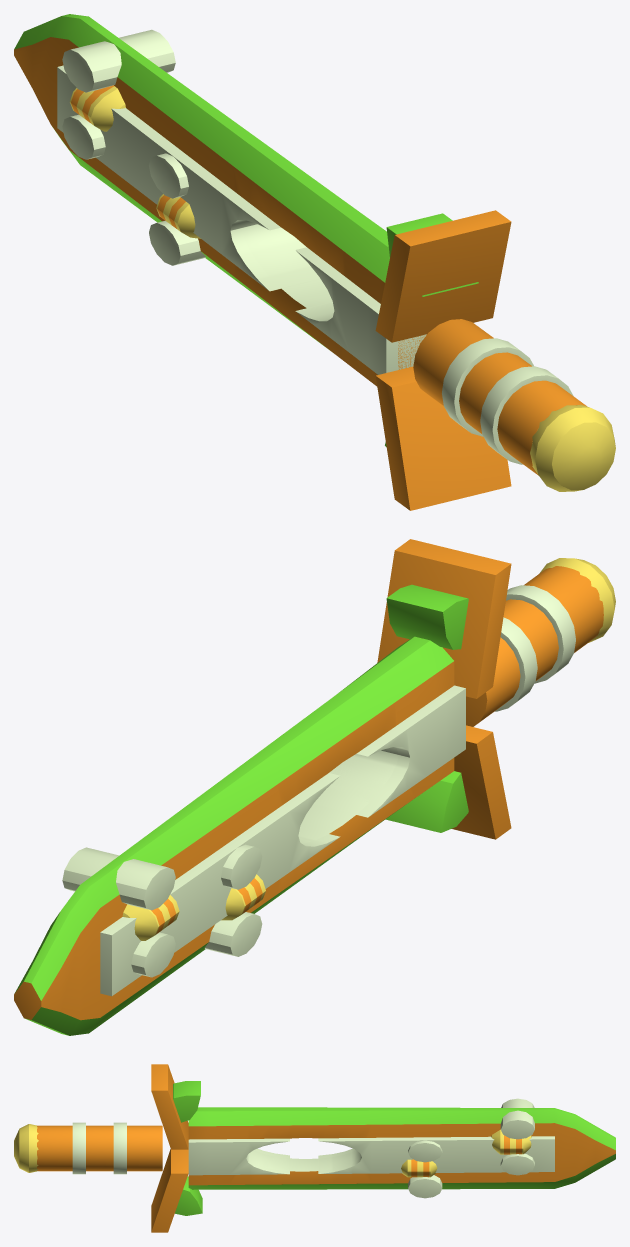
File: Sword_HollowboughClaymore.glb
3 views of the same model, one above another, from view 1: azimuth 30°, elevation 25°; view 2: azimuth 150°, elevation 25°; view 3: azimuth 270°, elevation 25° (orthographic). The views are drawn at different scales.
Visible parts, largest first — view 1: Sword_HollowboughClaymore; view 2: Sword_HollowboughClaymore; view 3: Sword_HollowboughClaymore.
Part boxes in pixels (x1,y1,x2,y2): Sword_HollowboughClaymore: (14,14,615,510); Sword_HollowboughClaymore: (14,539,615,1035); Sword_HollowboughClaymore: (14,1064,615,1232).
Bounding box in the file's own units: 0.104 × 0.26 × 1.
1 material, 1 textured.
